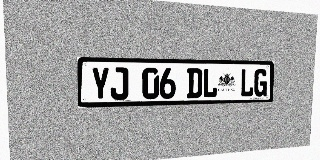0: (142, 67, 159, 99)
6: (159, 68, 176, 99)
D: (187, 68, 202, 98)
G: (254, 69, 268, 97)
J: (110, 67, 128, 100)
L: (202, 68, 218, 98), (240, 69, 254, 97)
Y: (91, 67, 110, 100)
